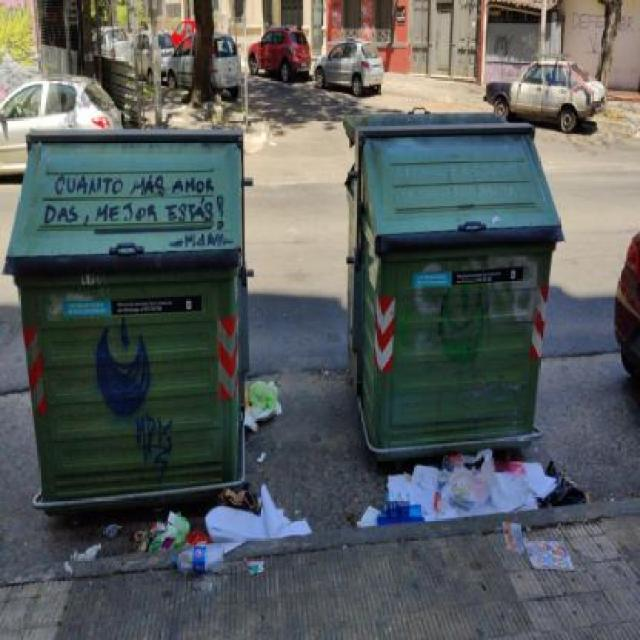garbage: (348, 397, 602, 588), (76, 468, 357, 586), (240, 357, 300, 466)
